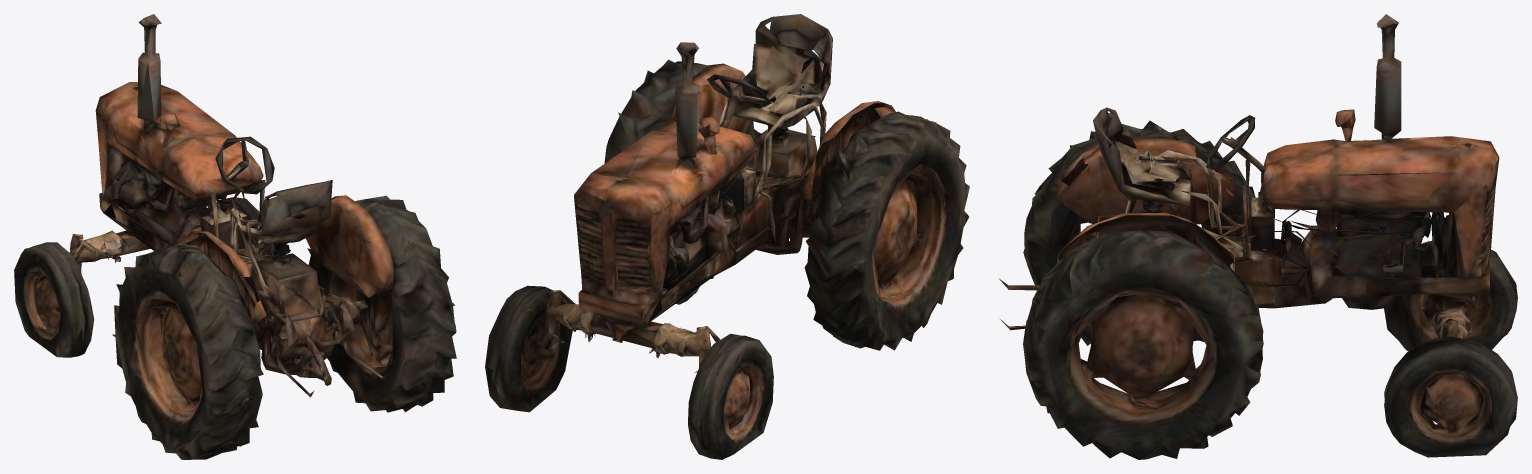
Rendered from tractor_game_ready.glb.
The picture shows the model from 3 angles, left to right: view 1: azimuth 30°, elevation 25°; view 2: azimuth 150°, elevation 25°; view 3: azimuth 270°, elevation 25°; orthographic projection. The views are drawn at different scales.
Visible parts, largest first — view 1: tractor; view 2: tractor; view 3: tractor.
Boxes of the visible parts, left/top/right/bottom form: tractor: left=14, top=14, right=456, bottom=459; tractor: left=485, top=14, right=969, bottom=459; tractor: left=998, top=14, right=1517, bottom=459.
Size of the model in its own units: 1.47 by 1.9 by 2.42.
Materials: 1 (1 with a texture image).
